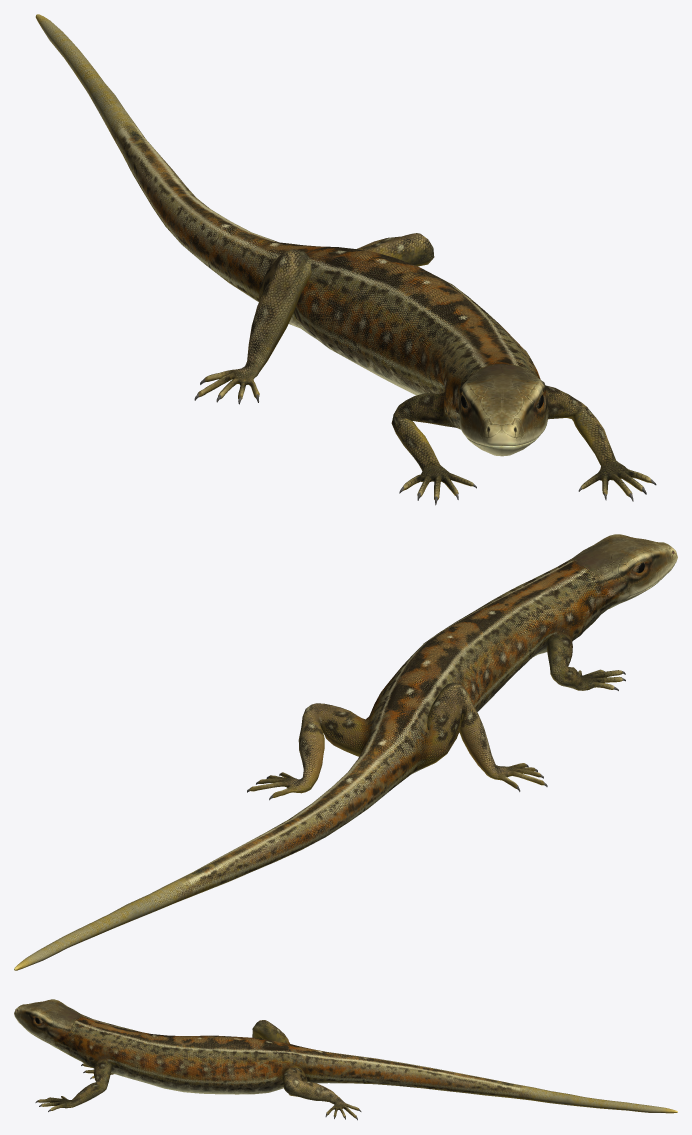
Rendered from Standing61.obj.
The picture shows the model from 3 angles, top to bottom: view 1: azimuth 30°, elevation 25°; view 2: azimuth 150°, elevation 25°; view 3: azimuth 270°, elevation 25°; orthographic projection. The views are drawn at different scales.
Parts seen in each view (by area): view 1: Lizard; view 2: Lizard; view 3: Lizard.
Boxes of the visible parts, left/top/right/bottom form: Lizard: left=35, top=14, right=656, bottom=505; Lizard: left=14, top=534, right=677, bottom=970; Lizard: left=14, top=999, right=677, bottom=1120.
Size of the model in its own units: 25.34 by 12.04 by 102.
